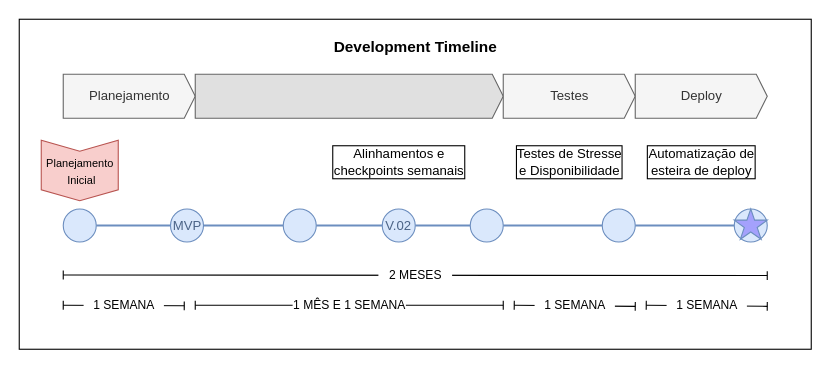
The diagram is 831 pixels wide and 369 high, and some of its shapes have lost their labels. Each missing label, with the box of its shape:
Desenvolvimento: (194, 73, 503, 118)
V.01: (282, 208, 316, 242)
V.03: (469, 208, 503, 242)
